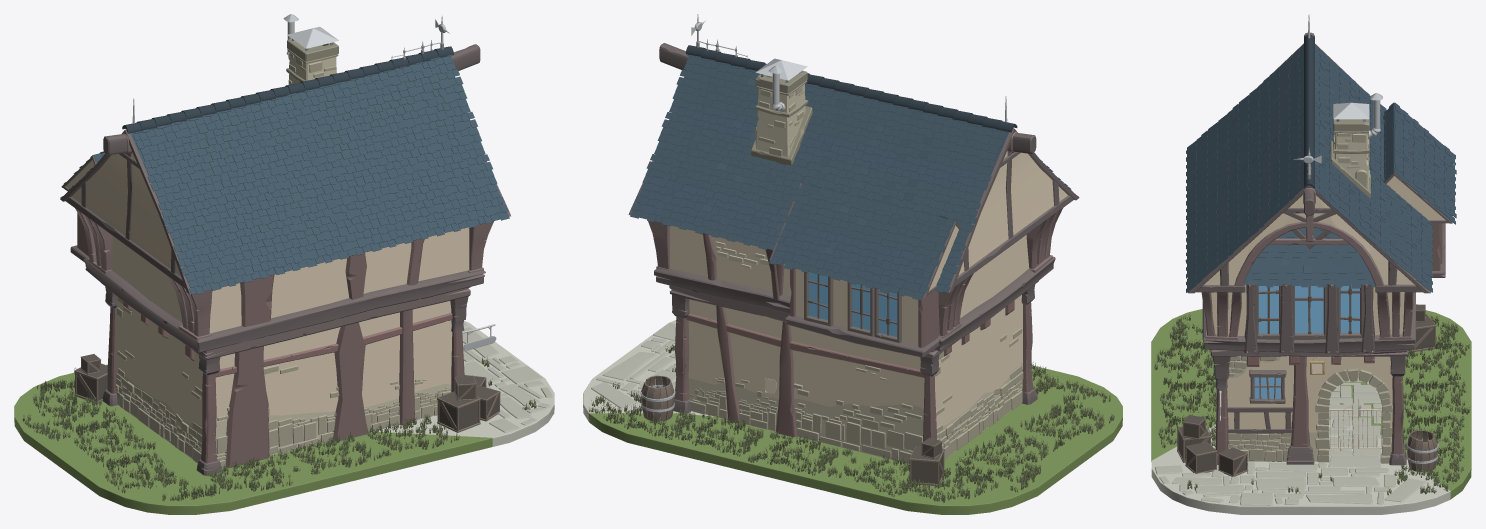
The picture shows the model from 3 angles, left to right: view 1: azimuth 30°, elevation 25°; view 2: azimuth 150°, elevation 25°; view 3: azimuth 270°, elevation 25°; orthographic projection. The views are drawn at different scales.
Parts seen in each view (by area): view 1: roof_tile_1, base, base_under, column, grass1, rocks_walls_down, holder_base_1, boxes, rocks_down, holders_3, roofs_rocks_up, column_up1 (+10 smaller); view 2: roof_tile_, base, base_under, roof_tile_2, grass1, rocks_walls_down, column, holder_base_1, holders_3, roofs_rocks_up, rocks_down, column_up1 (+18 smaller); view 3: base_under, roof_tile_1, rocks_down, roof_tile_, base, grass1, roof_tile_3, roof_tile_2, columns_up, boxes, column, holders_3 (+29 smaller).
Boxes of the visible parts, left/top/right/bottom form: roof_tile_1: left=133, top=54, right=509, bottom=294; base: left=71, top=63, right=502, bottom=467; base_under: left=14, top=321, right=554, bottom=514; column: left=107, top=307, right=464, bottom=467; grass1: left=22, top=356, right=536, bottom=501; rocks_walls_down: left=115, top=297, right=450, bottom=466; holder_base_1: left=84, top=257, right=485, bottom=352; boxes: left=74, top=354, right=500, bottom=432; rocks_down: left=462, top=323, right=553, bottom=432; holders_3: left=75, top=208, right=493, bottom=340; roofs_rocks_up: left=122, top=46, right=453, bottom=133; column_up1: left=77, top=213, right=424, bottom=326; roof_tile_: left=630, top=54, right=1006, bottom=292; base: left=637, top=57, right=1067, bottom=461; base_under: left=583, top=320, right=1122, bottom=514; roof_tile_2: left=769, top=184, right=954, bottom=300; grass1: left=589, top=343, right=1114, bottom=502; rocks_walls_down: left=690, top=328, right=1023, bottom=463; column: left=674, top=302, right=1033, bottom=441; holder_base_1: left=654, top=256, right=1055, bottom=351; holders_3: left=648, top=208, right=1062, bottom=338; roofs_rocks_up: left=686, top=45, right=1017, bottom=132; rocks_down: left=591, top=323, right=676, bottom=408; column_up1: left=702, top=233, right=939, bottom=347; base_under: left=1151, top=309, right=1471, bottom=514; roof_tile_1: left=1185, top=45, right=1303, bottom=292; rocks_down: left=1155, top=378, right=1426, bottom=505; roof_tile_: left=1311, top=44, right=1432, bottom=292; base: left=1188, top=49, right=1430, bottom=461; grass1: left=1154, top=314, right=1470, bottom=495; roof_tile_3: left=1243, top=228, right=1375, bottom=288; roof_tile_2: left=1394, top=103, right=1456, bottom=224; columns_up: left=1243, top=284, right=1375, bottom=354; boxes: left=1177, top=304, right=1436, bottom=476; column: left=1215, top=356, right=1403, bottom=454; holders_3: left=1201, top=292, right=1413, bottom=340.
Size of the model in its own units: 17.67 by 13.79 by 11.78.
